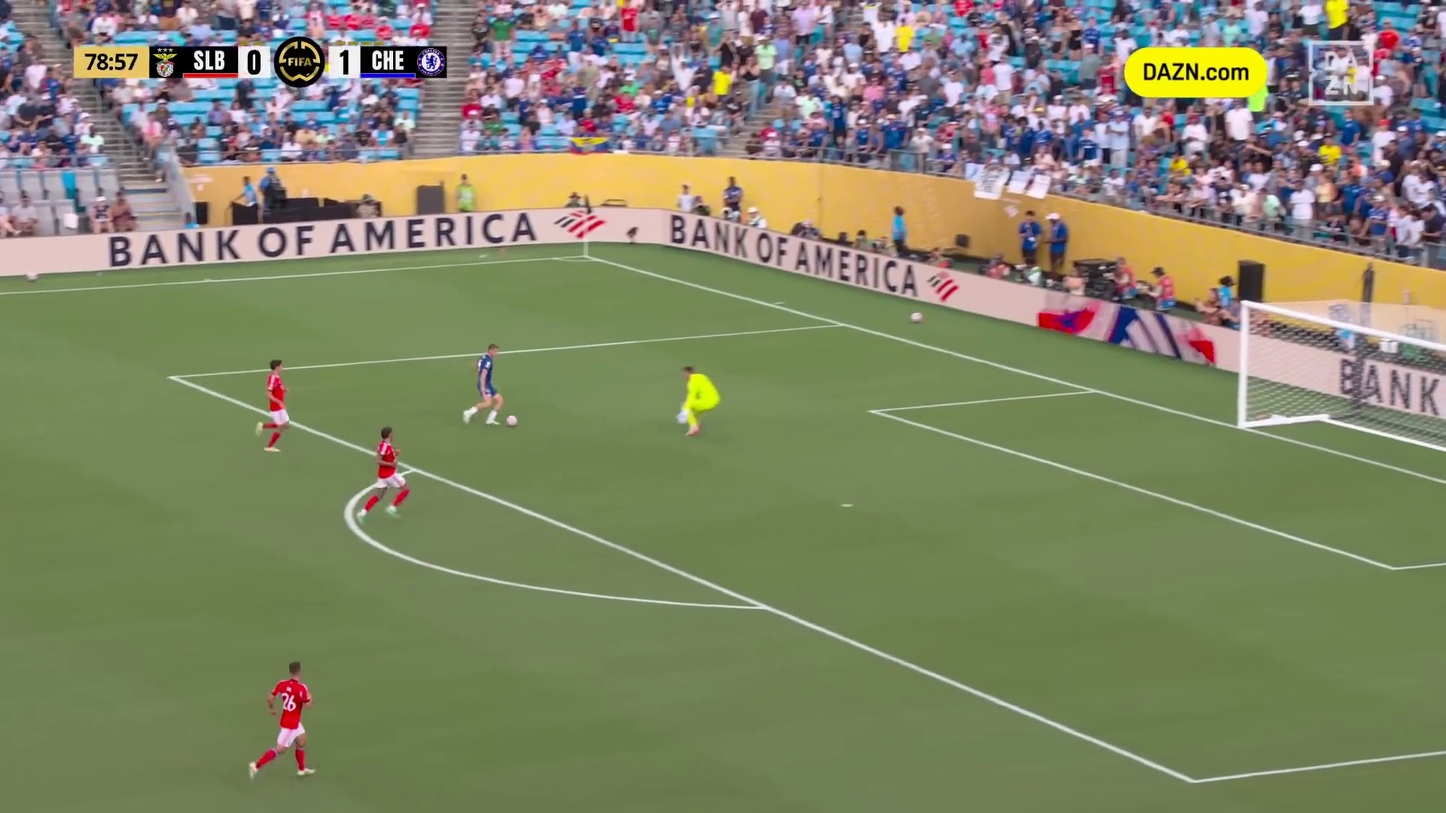ball: (506, 413, 519, 430)
player: (245, 659, 322, 785), (353, 426, 416, 523), (458, 343, 514, 430), (249, 358, 298, 456), (671, 364, 725, 439)
